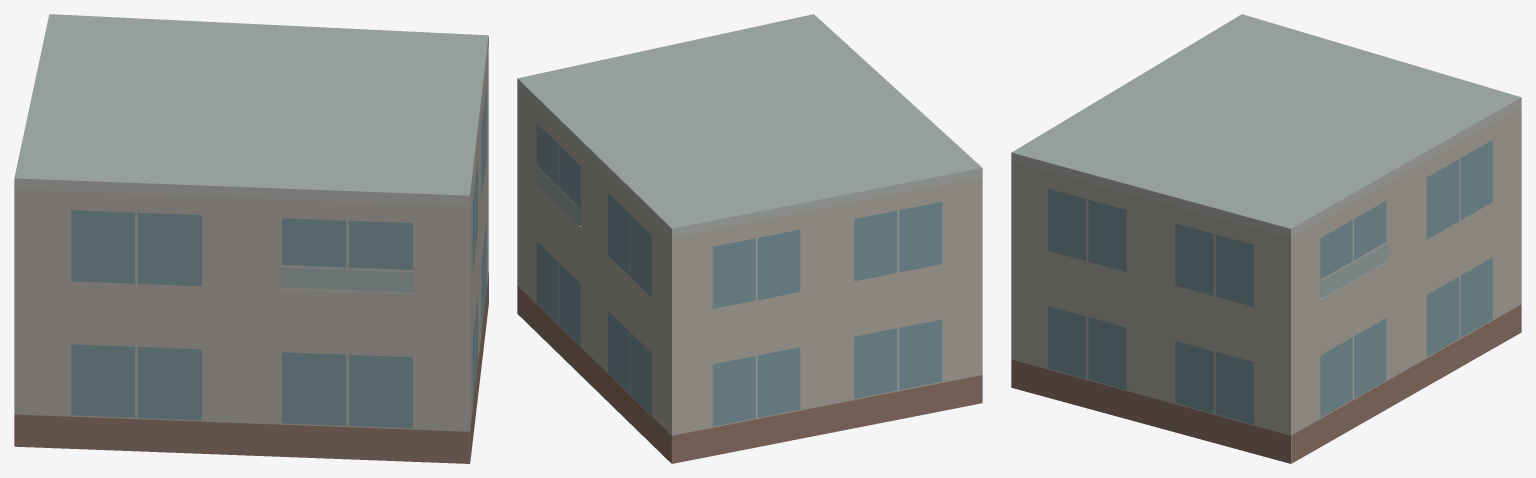
File: survey-upis-32652001.glb
3 views of the same model, side by side, from view 1: azimuth 30°, elevation 25°; view 2: azimuth 150°, elevation 25°; view 3: azimuth 270°, elevation 25° (orthographic). The views are drawn at different scales.
Visible parts, largest first — view 1: survey-upis-32652001.tmp; view 2: survey-upis-32652001.tmp; view 3: survey-upis-32652001.tmp.
Boxes of the visible parts, box(x1,y1,x2,y2) form: survey-upis-32652001.tmp: box(14, 14, 488, 463); survey-upis-32652001.tmp: box(517, 14, 982, 463); survey-upis-32652001.tmp: box(1011, 14, 1521, 463).
Size of the model in its own units: 11.97 by 6.1 by 12.01.
